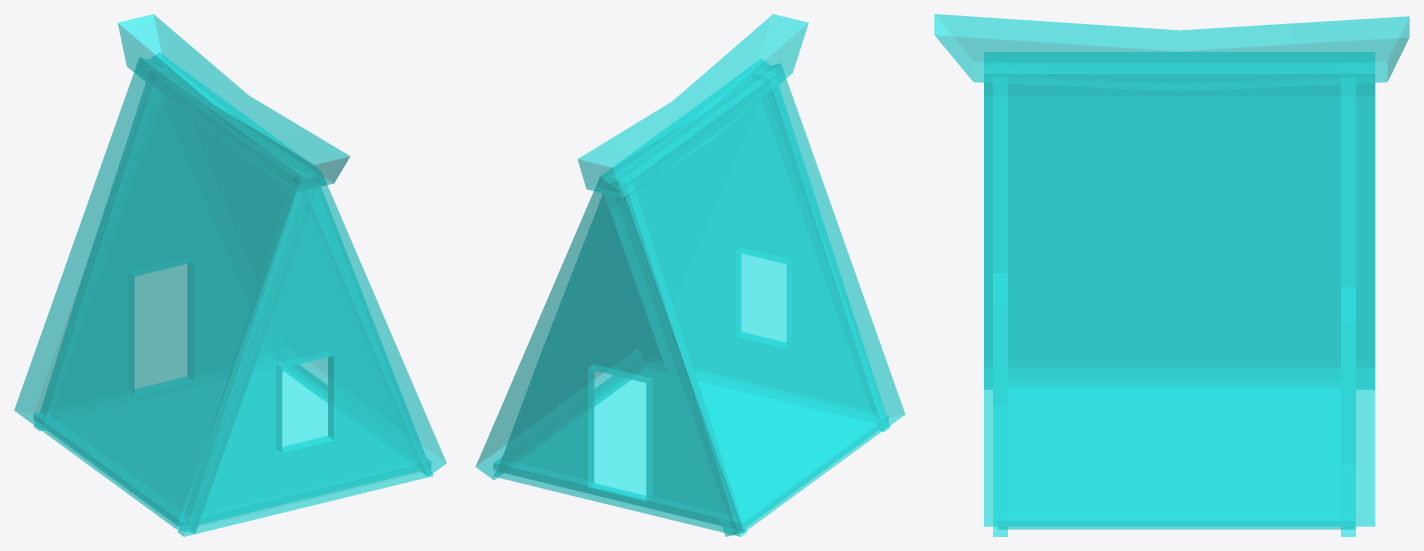
Rendered from SM_Bld_Shack_03_Collision.fbx.
3 views of the same model, side by side, from view 1: azimuth 30°, elevation 25°; view 2: azimuth 150°, elevation 25°; view 3: azimuth 270°, elevation 25° (orthographic). The views are drawn at different scales.
Visible parts, largest first — view 1: SM_Bld_Shack_03_Collision; view 2: SM_Bld_Shack_03_Collision; view 3: SM_Bld_Shack_03_Collision.
Part boxes in pixels (box(x1,y1,x2,y2)): SM_Bld_Shack_03_Collision: box(14, 14, 446, 536); SM_Bld_Shack_03_Collision: box(475, 14, 905, 536); SM_Bld_Shack_03_Collision: box(934, 14, 1409, 536).
Bounding box in the file's own units: 468 × 602 × 591.
